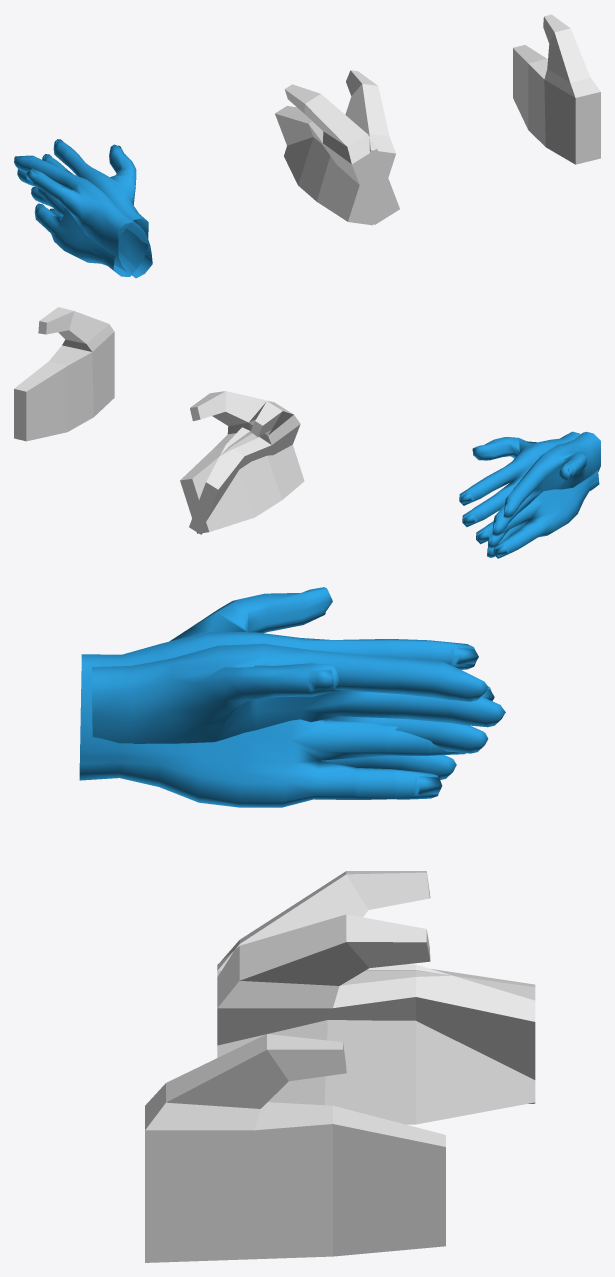
File: hands.glb
3 renders of one model, top to bottom at view 1: azimuth 30°, elevation 25°; view 2: azimuth 150°, elevation 25°; view 3: azimuth 270°, elevation 25°, orthographic. The views are drawn at different scales.
Parts seen in each view (by area): view 1: hand_base, left, left_old, right, right_old; view 2: hand_base, left, left_old, right_old, right; view 3: hand_base, left_old, right_old, left, right.
Part boxes in pixels (bbox=[...]): hand_base: bbox=[513, 14, 600, 164]; left: bbox=[284, 70, 395, 225]; left_old: bbox=[34, 139, 148, 276]; right: bbox=[275, 84, 399, 224]; right_old: bbox=[14, 155, 152, 278]; hand_base: bbox=[14, 307, 114, 441]; left: bbox=[180, 391, 304, 533]; left_old: bbox=[459, 431, 599, 558]; right_old: bbox=[487, 431, 600, 557]; right: bbox=[189, 401, 300, 534]; hand_base: bbox=[145, 1034, 445, 1262]; left_old: bbox=[92, 643, 505, 779]; right_old: bbox=[79, 587, 494, 807]; left: bbox=[217, 914, 535, 1103]; right: bbox=[217, 871, 535, 1124].
Size of the model in its own units: 0.6342 by 0.1563 by 0.2378.
